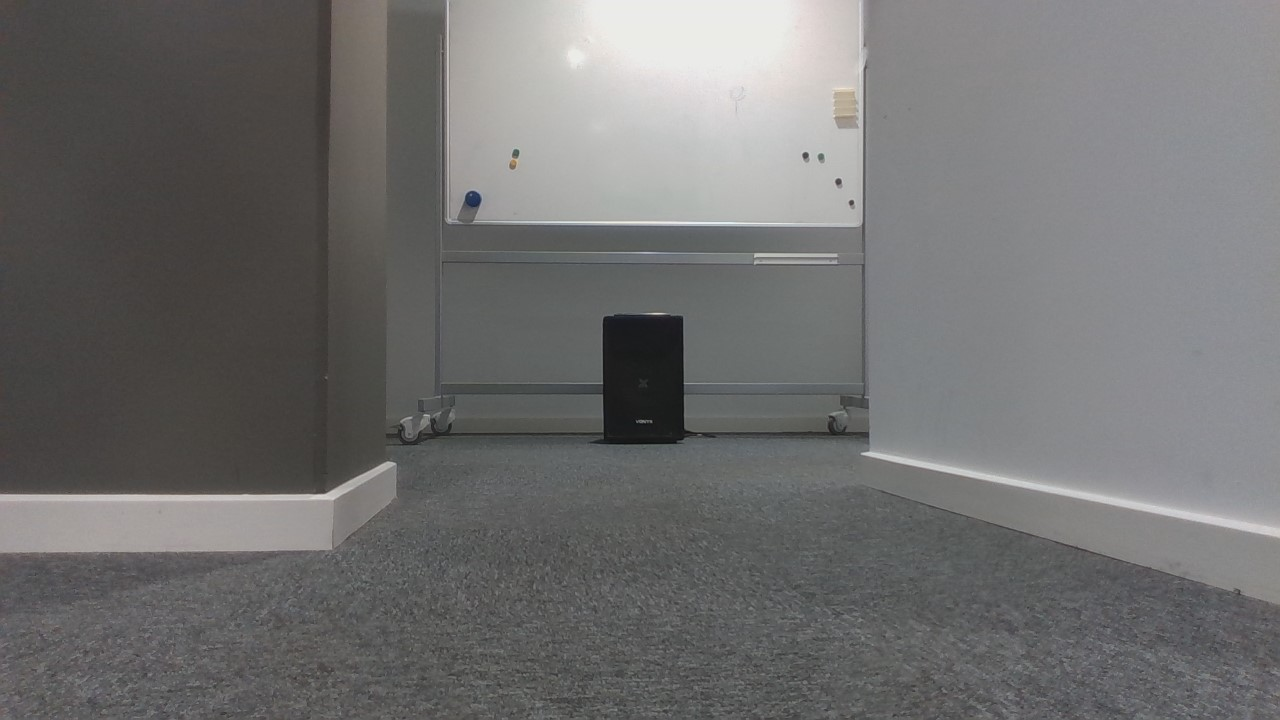alfa: (463, 188, 482, 211)
